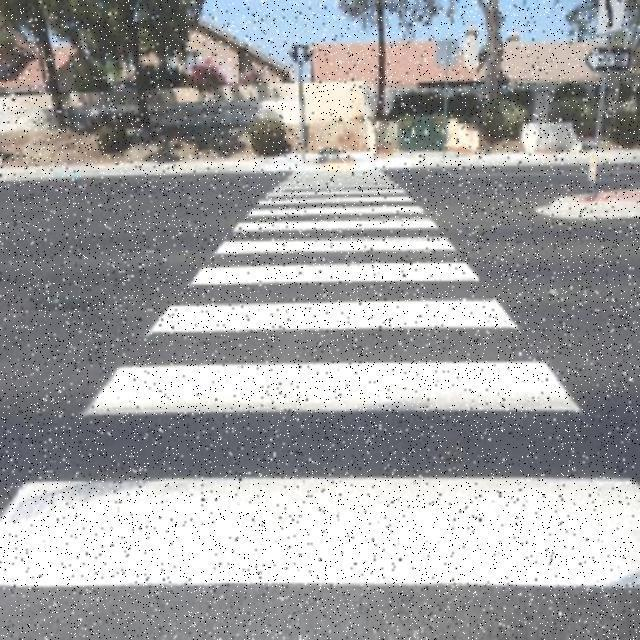Pedestrian crosswalk: (2, 163, 640, 590)
